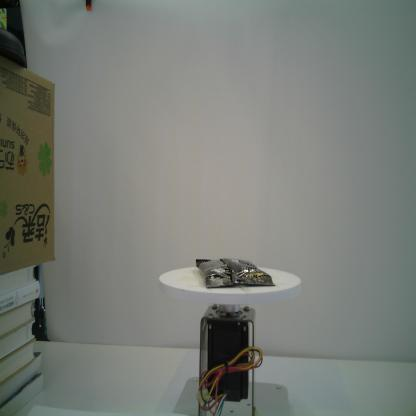Instant Drink: (194, 257, 276, 289)
